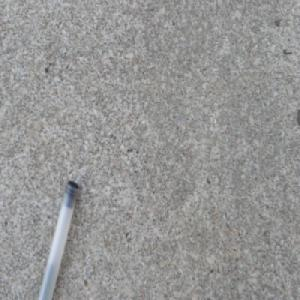Pen: (36, 179, 80, 300)
